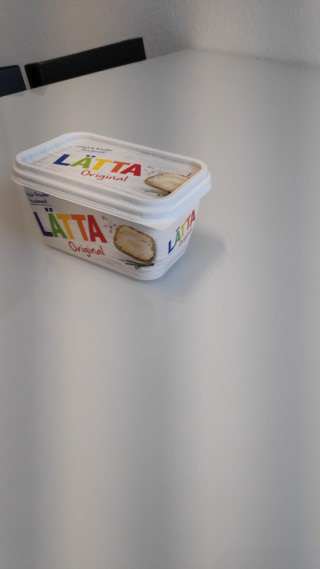laetta: (8, 128, 212, 281)
